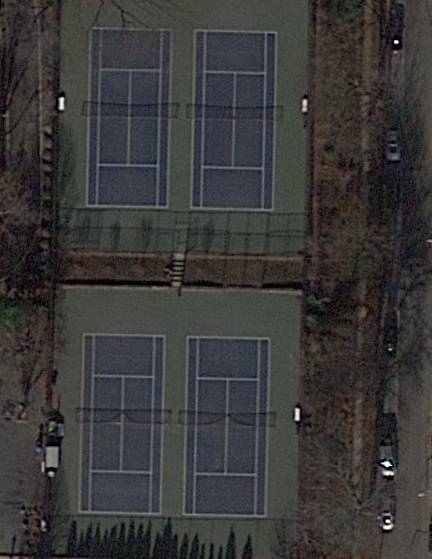small vehicle: (377, 440, 399, 478), (378, 494, 399, 532), (385, 130, 403, 163)
tennis court: (85, 28, 175, 208), (79, 334, 167, 515), (184, 338, 271, 519), (191, 30, 277, 210)
